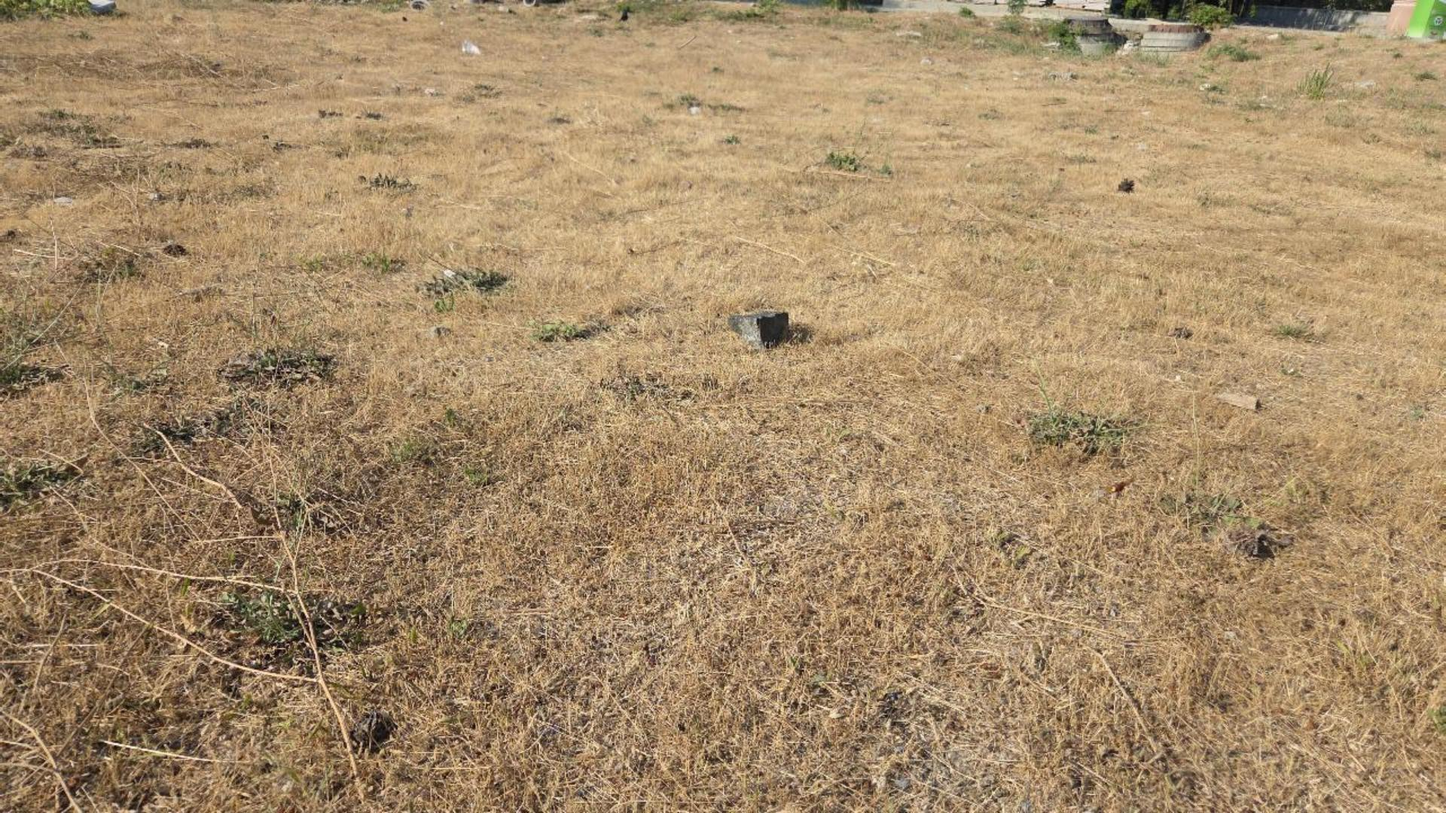rock: (728, 311, 789, 348)
